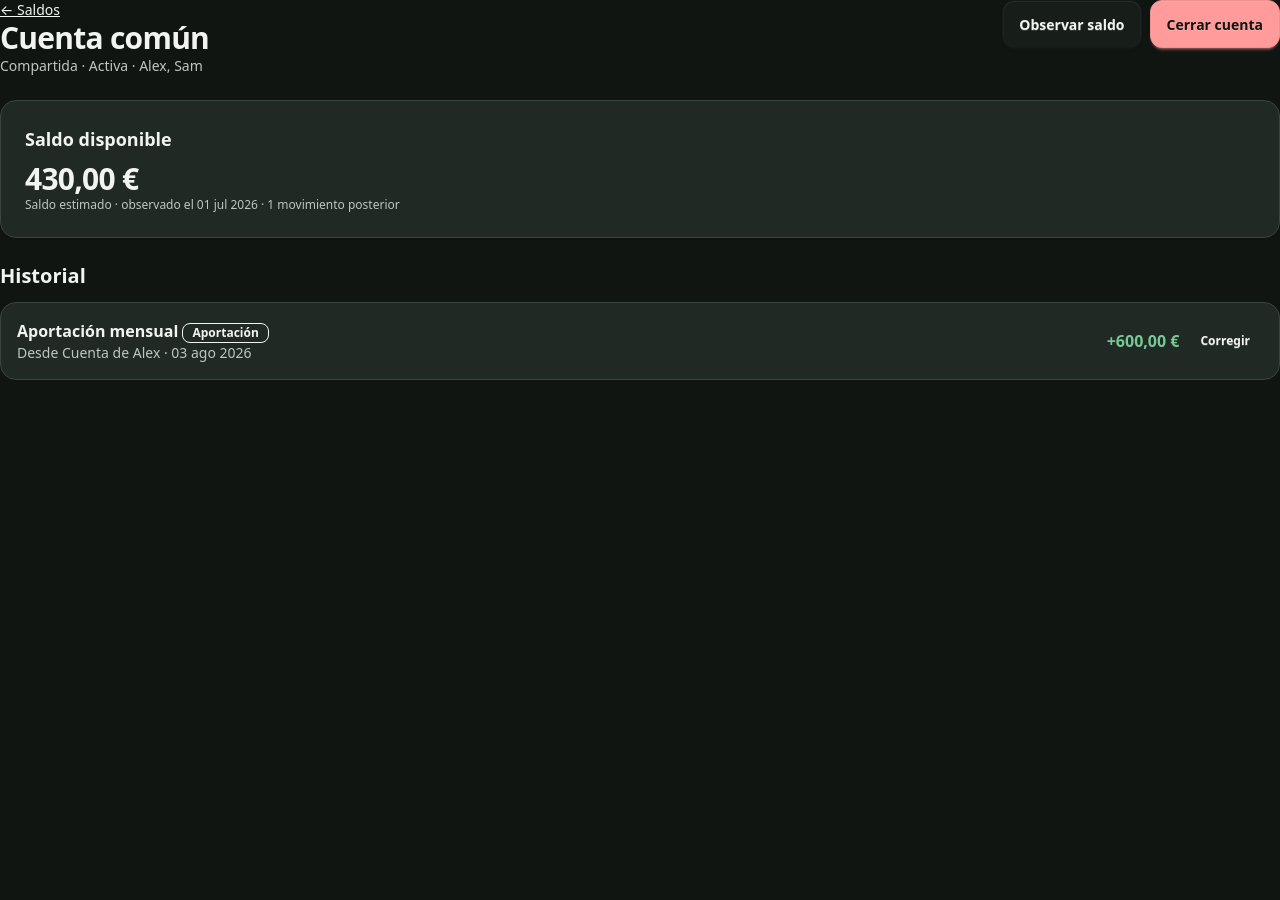
Test: AccountDetailPage › requires a named confirmation before closing an account
Click the button "Cerrar cuenta" at (1215, 24), box x1=1150 y1=0 x2=1279 y2=48
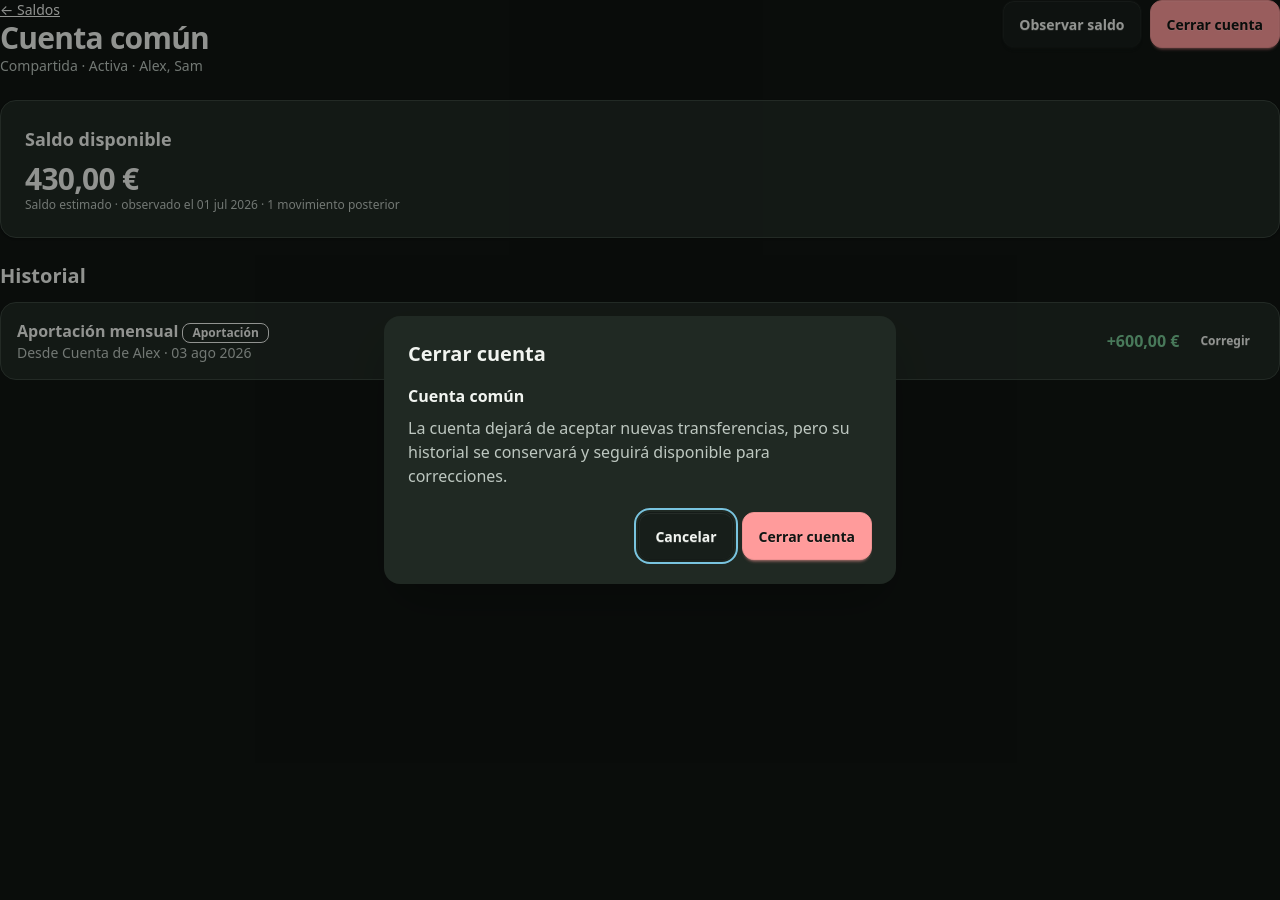
Expected: the dialog shows "Cerrar cuenta", x1=408 y1=340 x2=546 y2=367
Expected: the dialog shows "Cuenta común", x1=408 y1=385 x2=524 y2=407
Expected: the dialog shows "historial se conservará", x1=408 y1=417 x2=850 y2=487
